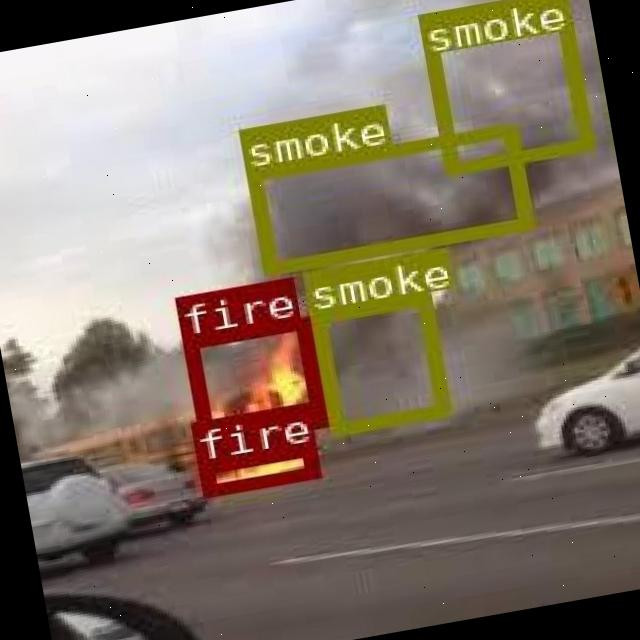fire: (180, 316, 324, 444), (197, 442, 316, 494)
smoke: (245, 122, 529, 273), (417, 0, 591, 174), (306, 290, 448, 432)
